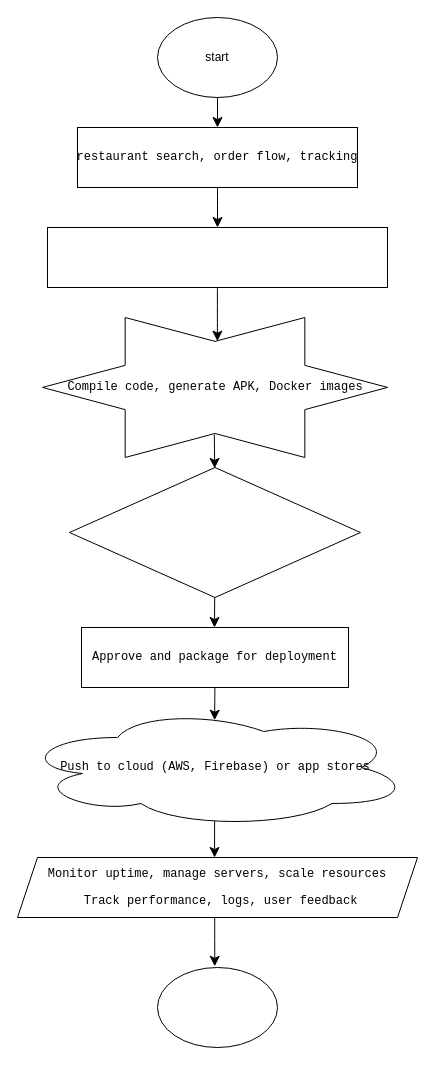
This 435x1065 diagram has some shape labels left out. The box of each missing label's shape, as (x1, y1, x2, y2) in pixels:
Build mobile UI, backend APIs, admin dashboard: (46, 226, 388, 288)
End: (156, 966, 278, 1048)
Validate login, payments, delivery flow: (68, 466, 360, 598)
